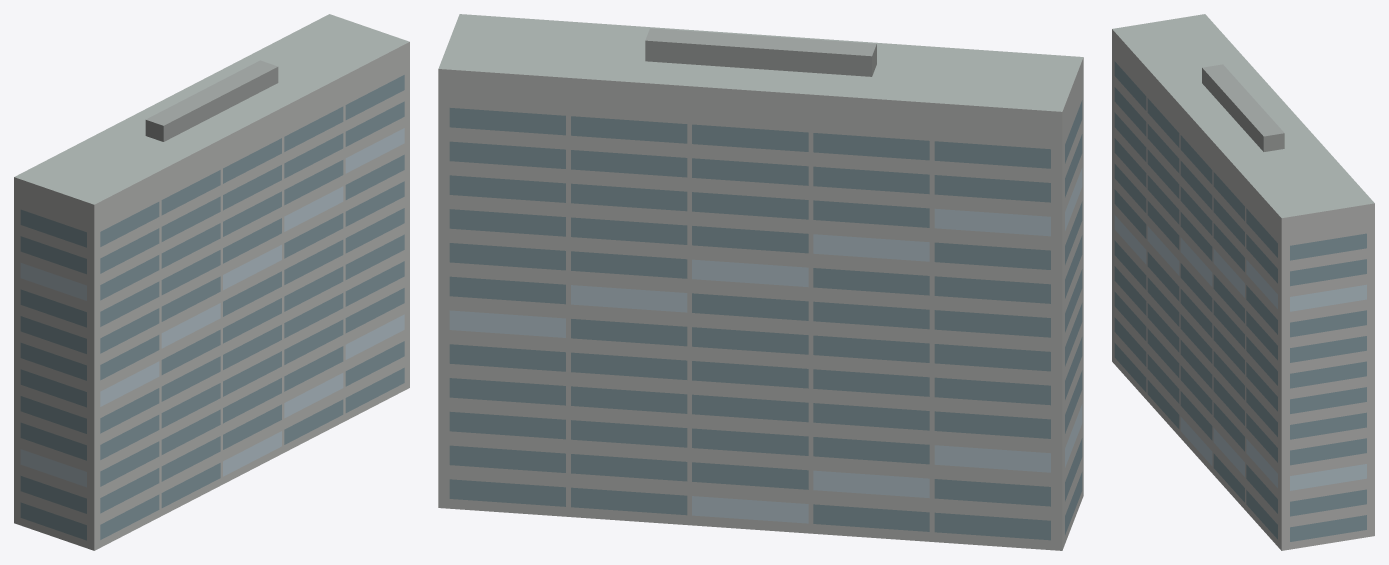
Rendered from fallback-songpa-helio-city-301.glb.
3 renders of one model, left to right at view 1: azimuth 30°, elevation 25°; view 2: azimuth 150°, elevation 25°; view 3: azimuth 270°, elevation 25°, orthographic. The views are drawn at different scales.
Parts seen in each view (by area): view 1: fallback-songpa-helio-city-301; view 2: fallback-songpa-helio-city-301; view 3: fallback-songpa-helio-city-301.
Part boxes in pixels (x1=…): fallback-songpa-helio-city-301: x1=14, y1=14, x2=409, y2=550; fallback-songpa-helio-city-301: x1=438, y1=14, x2=1083, y2=550; fallback-songpa-helio-city-301: x1=1112, y1=14, x2=1374, y2=550.
Size of the model in its own units: 46.53 by 37 by 25.3.
